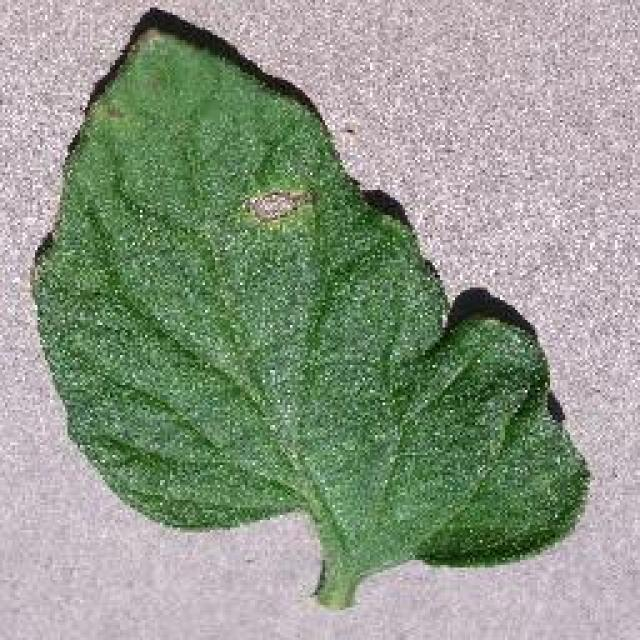Tomato___Septoria_leaf_spot: (35, 10, 588, 605)
